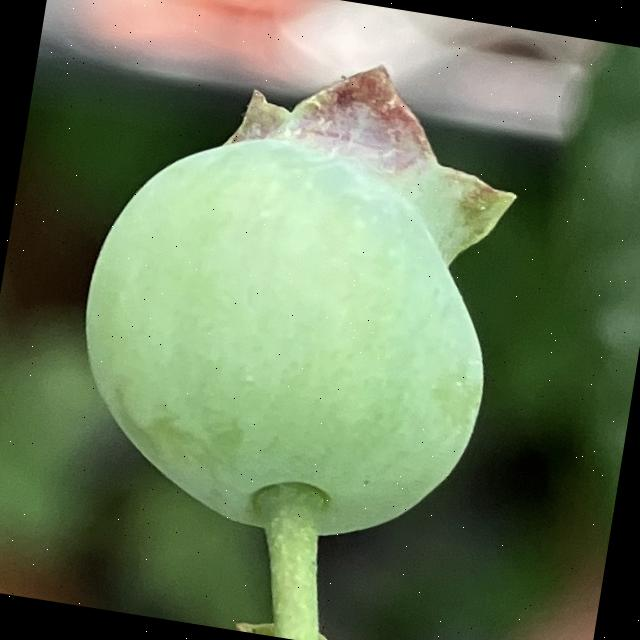Blueberries: (52, 2, 560, 562)
